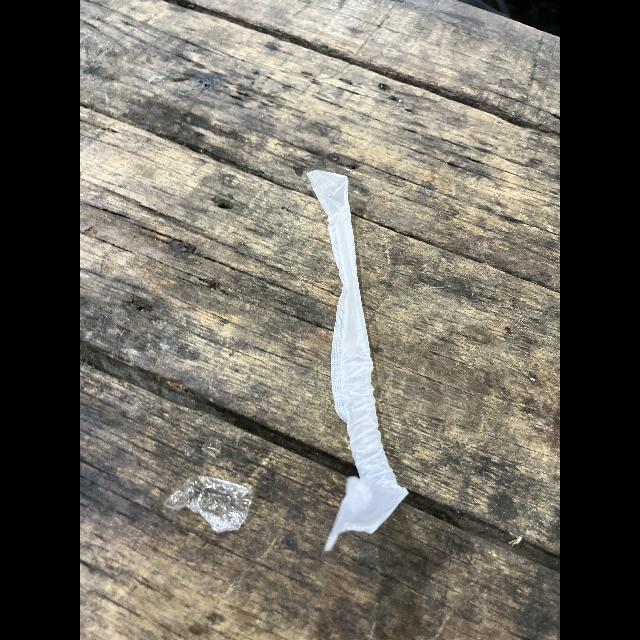scrap_plastic: (307, 157, 411, 547), (169, 469, 257, 543)
